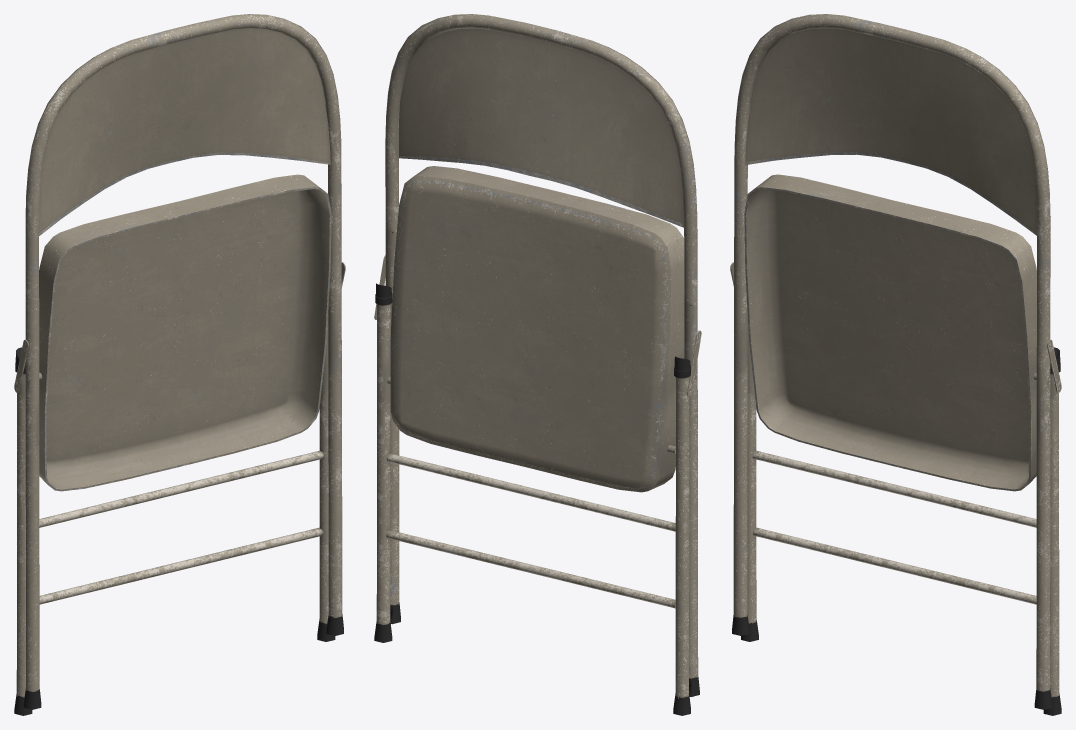
File: SM_FoldingChair_Closed.fbx
3 views of the same model, side by side, from view 1: azimuth 30°, elevation 25°; view 2: azimuth 150°, elevation 25°; view 3: azimuth 330°, elevation 25° (orthographic).
Visible parts, largest first — view 1: SM_FoldingChair_Closed; view 2: SM_FoldingChair_Closed; view 3: SM_FoldingChair_Closed.
Boxes of the visible parts, x1,y1,x2,y2 form: SM_FoldingChair_Closed: [14, 14, 345, 715]; SM_FoldingChair_Closed: [374, 14, 701, 715]; SM_FoldingChair_Closed: [730, 14, 1061, 715].
Bounding box in the file's own units: 66.93 × 11.35 × 130.
1 material, 1 textured.
